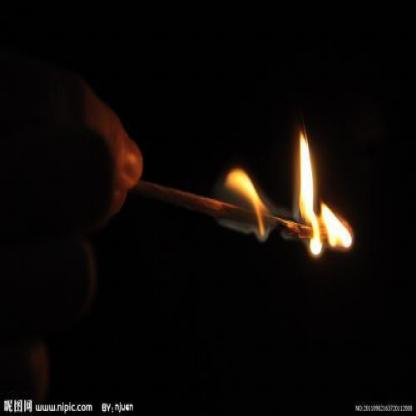fire: (216, 116, 355, 273)
